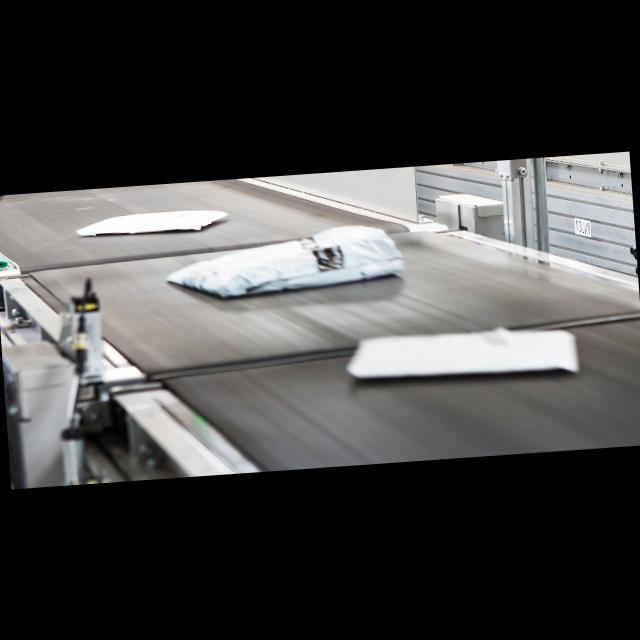mailer: (165, 222, 402, 301), (348, 322, 578, 388), (74, 206, 228, 240)
